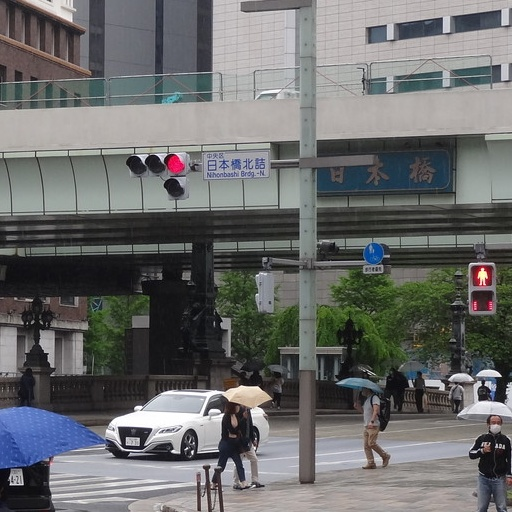Pedestrian_Signal_Red: (462, 255, 496, 319)
Traffic_Signal_Red: (123, 147, 196, 179)
